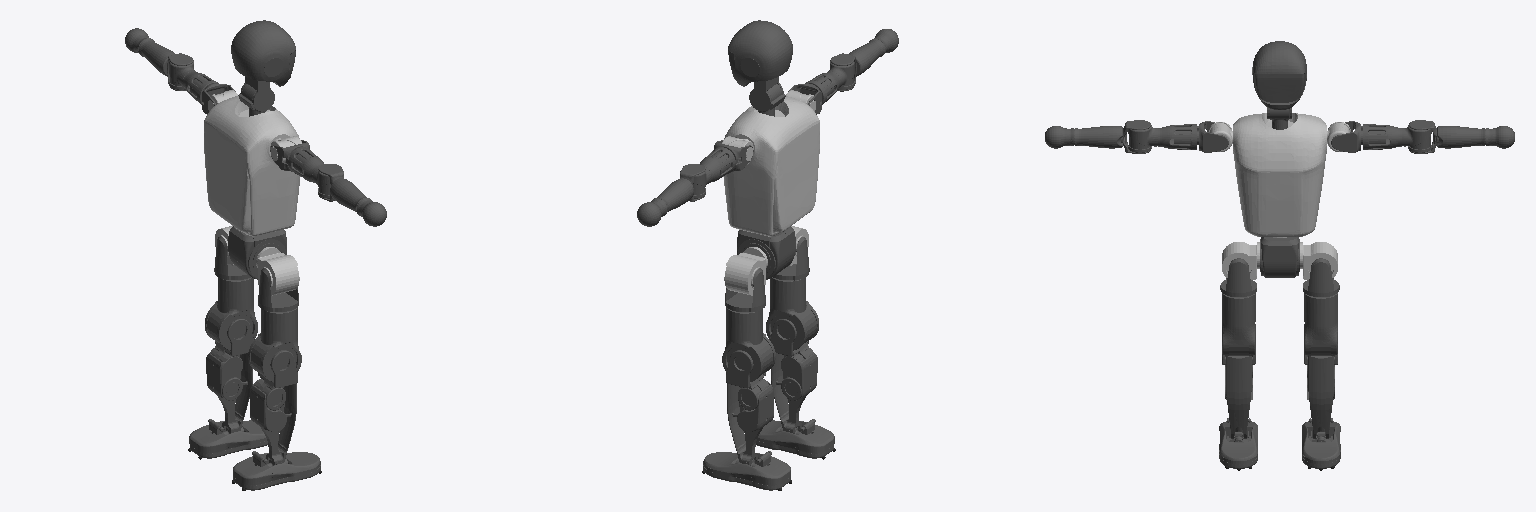
--- What the picture shows (computed from the rendered views, not written in the file) ---
The picture shows the robot from 3 angles, left to right: view 1: azimuth 30°, elevation 25°; view 2: azimuth 150°, elevation 25°; view 3: azimuth 270°, elevation 25°; orthographic projection.
Model t1_23dof with 36 links and 35 joints (23 revolute, 12 fixed), rooted at Trunk, posed every joint at zero.
Visible links, largest first — view 1: Trunk, H2, Shank_Right, Shank_Left, Hip_Yaw_Left, Hip_Yaw_Right, right_foot_link, left_foot_link, right_hand_link, Waist, Hip_Pitch_Right, left_hand_link (+4 smaller); view 2: Trunk, H2, Shank_Left, Shank_Right, Hip_Yaw_Right, Hip_Yaw_Left, left_foot_link, right_foot_link, left_hand_link, Waist, Hip_Pitch_Left, right_hand_link (+4 smaller); view 3: Trunk, H2, Shank_Left, Shank_Right, Hip_Yaw_Left, Hip_Yaw_Right, left_hand_link, right_hand_link, AR3, AL3, Waist, left_foot_link (+7 smaller).
Link boxes in pixels (x1,y1,x2,y2): Trunk: (204,96,300,236); H2: (231,20,295,111); Shank_Right: (250,350,297,465); Shank_Left: (206,319,253,433); Hip_Yaw_Left: (205,277,257,350); Hip_Yaw_Right: (248,307,301,381); right_foot_link: (233,451,320,490); left_foot_link: (189,419,267,458); right_hand_link: (319,164,386,226); Waist: (228,226,286,279); Hip_Pitch_Right: (256,247,299,295); left_hand_link: (125,28,193,90); Trunk: (723,96,819,236); H2: (728,20,792,111); Shank_Left: (726,350,773,465); Shank_Right: (770,319,817,433); Hip_Yaw_Right: (766,277,818,350); Hip_Yaw_Left: (722,307,775,381); left_foot_link: (703,451,790,490); right_foot_link: (756,419,834,458); left_hand_link: (637,164,705,226); Waist: (737,226,795,279); Hip_Pitch_Left: (724,247,767,295); right_hand_link: (830,29,898,91); Trunk: (1233,113,1326,237); H2: (1252,41,1306,118); Shank_Left: (1304,324,1337,438); Shank_Right: (1222,324,1255,438); Hip_Yaw_Left: (1304,293,1337,356); Hip_Yaw_Right: (1222,293,1255,356); left_hand_link: (1409,120,1514,153); right_hand_link: (1045,120,1150,153); AR3: (1128,124,1198,152); AL3: (1361,124,1431,152); Waist: (1260,237,1299,277); left_foot_link: (1302,418,1340,468).
Bounding box of the posed robot: 0.23 × 1.21 × 1.17 m (x, y, z).
24 mesh visuals loaded from 24 distinct referenced files (24 OBJ).

The robot description file, URDF, robot "t1_23dof":
<?xml version="1.0" encoding="utf-8"?>
<!-- This URDF was automatically created by SolidWorks to URDF Exporter! Originally created by Stephen Brawner ([email redacted])
     Commit Version: 1.6.0-4-g7f85cfe  Build Version: 1.6.7995.38578
     For more information, please see http://wiki.ros.org/sw_urdf_exporter -->
<robot
  name="t1_23dof">
  <link
    name="Trunk">
    <inertial>
      <origin
        xyz="0.0551365401093076 -1.42058017623659E-06 0.105062332707657"
        rpy="0 0 0" />
      <mass
        value="11.7" />
      <inertia
        ixx="0.0915287235057927"
        ixy="-4.25369739206781E-07"
        ixz="0.000646360369011163"
        iyy="0.076778716903413"
        iyz="5.82340020271393E-07"
        izz="0.0556171053368987" />
    </inertial>
    <visual>
      <origin
        xyz="0 0 0"
        rpy="0 0 0" />
      <geometry>
        <mesh
          filename="meshes/Trunk_from_STL.obj" />
      </geometry>
      <material
        name="">
        <color
          rgba="0.76 0.76 0.76 1.0" />
      </material>
    </visual>
    <collision name="Trunk">
      <origin
        xyz="0 0 0"
        rpy="0 0 0" />
      <geometry>
        <mesh filename="meshes/Trunk_from_STL.obj"/>
      </geometry>
    </collision>
  </link>
  <link
    name="H1">
    <inertial>
      <origin
        xyz="-0.000508 -0.001403 0.057432"
        rpy="0 0 0" />
      <mass
        value="0.443910" />
      <inertia
        ixx="0.000224"
        ixy="0.000003"
        ixz="0.000001"
        iyy="0.000241"
        iyz="-0.000002"
        izz="0.000150" />
    </inertial>
    <visual>
      <origin
        xyz="0 0 0"
        rpy="0 0 0" />
      <geometry>
        <mesh
          filename="meshes/H1_from_STL.obj" />
      </geometry>
      <material
        name="">
        <color
          rgba="0.4 0.4 0.4 1.0" />
      </material>
    </visual>
    <collision name="H1">
      <origin
        xyz="0 0 0"
        rpy="0 0 0" />
      <geometry>
        <mesh filename="meshes/H1_from_STL.obj" />
      </geometry>
    </collision>
  </link>
  <joint
    name="AAHead_yaw"
    type="revolute">
    <origin
      xyz="0.0625 0 0.243"
      rpy="0 0 0" />
    <parent
      link="Trunk" />
    <child
      link="H1" />
    <axis
      xyz="0 0 1" />
    <limit
      lower="-1.57"
      upper="1.57"
      effort="7"
      velocity="12.56" />
  </joint>
  <link
    name="H2">
    <inertial>
      <origin
        xyz="0.007802 0.001262 0.098631"
        rpy="0 0 0" />
      <mass
        value="0.631019" />
      <inertia
        ixx="0.002025"
        ixy="-0.000025"
        ixz="0.000046"
        iyy="0.001920"
        iyz="0.000036"
        izz="0.001739" />
    </inertial>
    <visual>
      <origin
        xyz="0 0 0"
        rpy="0 0 0" />
      <geometry>
        <mesh
          filename="meshes/H2_from_STL.obj" />
      </geometry>
      <material
        name="">
        <color
          rgba="0.4 0.4 0.4 1.0" />
      </material>
    </visual>
    <collision name="H2">
      <origin
        xyz="0 0 0"
        rpy="0 0 0" />
      <geometry>
        <mesh filename="meshes/H2_from_STL.obj" />
      </geometry>
    </collision>
  </link>
  <joint
    name="Head_pitch"
    type="revolute">
    <origin
      xyz="0 0 0.06185"
      rpy="0 0 0" />
    <parent
      link="H1" />
    <child
      link="H2" />
    <axis
      xyz="0 1 0" />
    <limit
      lower="-0.35"
      upper="1.22"
      effort="7"
      velocity="12.56" />
  </joint>
  <link
    name="AL1">
    <inertial>
      <origin
        xyz="-0.000677 0.044974 0.000000"
        rpy="0 0 0" />
      <mass
        value="0.53" />
      <inertia
        ixx="0.001293"
        ixy="-0.000017"
        ixz="0.000000"
        iyy="0.000293"
        iyz="0.000000"
        izz="0.001367" />
    </inertial>
    <visual>
      <origin
        xyz="0 0 0"
        rpy="0 0 0" />
      <geometry>
        <mesh
          filename="meshes/AL1_from_STL.obj" />
      </geometry>
      <material
        name="">
        <color
          rgba="0.76 0.76 0.76 1.0" />
      </material>
    </visual>
    <collision name="AL1">
      <origin
        xyz="0 0 0"
        rpy="0 0 0" />
      <geometry>
        <mesh filename="meshes/AL1_from_STL.obj" />
      </geometry>
    </collision>
  </link>
  <joint
    name="Left_Shoulder_Pitch"
    type="revolute">
    <origin
      xyz="0.0575 0.1063 0.219"
      rpy="0 0.00088113 0" />
    <parent
      link="Trunk" />
    <child
      link="AL1" />
    <axis
      xyz="0 1 0" />
    <limit
      lower="-3.31"
      upper="1.22"
      effort="18"
      velocity="18.84" />
  </joint>
  <link
    name="AL2">
    <inertial>
      <origin
        xyz="0.003862 0.037976 0.000000"
        rpy="0 0 0" />
      <mass
        value="0.160" />
      <inertia
        ixx="0.000345"
        ixy="0.000008"
        ixz="0.000000"
        iyy="0.000177"
        iyz="0.000000"
        izz="0.000401" />
    </inertial>
    <visual>
      <origin
        xyz="0 0 0"
        rpy="0 0 0" />
      <geometry>
        <mesh
          filename="meshes/AL2_from_STL.obj" />
      </geometry>
      <material
        name="">
        <color
          rgba="0.4 0.4 0.4 1.0" />
      </material>
    </visual>
    <collision name="AL2">
      <origin
        xyz="0 0 0"
        rpy="0 0 0" />
      <geometry>
        <mesh filename="meshes/AL2_from_STL.obj" />
      </geometry>
    </collision>
  </link>
  <joint
    name="Left_Shoulder_Roll"
    type="revolute">
    <origin
      xyz="0 0.047 0"
      rpy="0 0 0" />
    <parent
      link="AL1" />
    <child
      link="AL2" />
    <axis
      xyz="1 0 0" />
    <limit
      lower="-1.74"
      upper="1.57"
      effort="18"
      velocity="18.84" />
  </joint>
  <link
    name="AL3">
    <inertial>
      <origin
        xyz="0.000000 0.085353 -0.000099"
        rpy="0 0 0" />
      <mass
        value="1.02" />
      <inertia
        ixx="0.012869"
        ixy="0.000000"
        ixz="0.000000"
        iyy="0.000621"
        iyz="-0.000024"
        izz="0.012798" />
    </inertial>
    <visual>
      <origin
        xyz="0 0 0"
        rpy="0 0 0" />
      <geometry>
        <mesh
          filename="meshes/AL3_from_STL.obj" />
      </geometry>
      <material
        name="">
        <color
          rgba="0.4 0.4 0.4 1.0" />
      </material>
    </visual>
    <collision name="AL3">
      <origin
        xyz="0 0 0"
        rpy="0 0 0" />
      <geometry>
        <mesh filename="meshes/AL3_from_STL.obj" />
      </geometry>
    </collision>
  </link>
  <joint
    name="Left_Elbow_Pitch"
    type="revolute">
    <origin
      xyz="0.00025 0.0605 0"
      rpy="0 0 0" />
    <parent
      link="AL2" />
    <child
      link="AL3" />
    <axis
      xyz="0 1 0" />
    <limit
      lower="-2.27"
      upper="2.27"
      effort="18"
      velocity="18.84" />
  </joint>
  <link
    name="left_hand_link">
    <inertial>
      <origin
        xyz="-0.000108 0.109573 0.000591"
        rpy="0 0 0" />
      <mass
        value="0.327214390850251" />
      <inertia
        ixx="0.008159"
        ixy="-0.000003"
        ixz="0.000000"
        iyy="0.000215"
        iyz="0.000017"
        izz="0.008131" />
    </inertial>
    <visual>
      <origin
        xyz="0 0 0"
        rpy="0 0 0" />
      <geometry>
        <mesh
          filename="meshes/left_hand_link_from_STL.obj" />
      </geometry>
      <material
        name="">
        <color
          rgba="0.4 0.4 0.4 1.0" />
      </material>
    </visual>
    <collision name="left_hand_link">
      <origin
        xyz="0 0 0"
        rpy="0 0 0" />
      <geometry>
        <mesh filename="meshes/left_hand_link_from_STL.obj" />
      </geometry>
    </collision>
  </link>
  <link name="left_hand_sphere_link">
    <inertial>
      <origin xyz="0 0 0" rpy="0 0 0"/>
      <mass value="0.001"/>
      <inertia ixx="1e-7" ixy="0" ixz="0" iyy="1e-7" iyz="0" izz="1e-7"/>
    </inertial>
    <visual>
      <origin xyz="0 0 0" rpy="0 0 0"/>
      <geometry>
        <sphere radius="0.005"/>
      </geometry>
      <material name="dark">
        <color rgba="0.2 0.2 0.2 1"/>
      </material>
    </visual>
    <collision name="left_hand_sphere_link">
      <origin xyz="0.0 0.0 0.0" rpy="0 0 0"/>
      <geometry>
        <sphere radius="0.005"/>
      </geometry>
    </collision>
  </link>
  <joint name="left_hand_sphere_joint" type="fixed">
    <origin xyz="0.0 0.2 0.0" rpy="0 0 0"/>
    <parent link="left_hand_link"/>
    <child link="left_hand_sphere_link"/>
  </joint>
  <joint
    name="Left_Elbow_Yaw"
    type="revolute">
    <origin
      xyz="0 0.1471 0"
      rpy="0 0 0" />
    <parent
      link="AL3" />
    <child
      link="left_hand_link" />
    <axis
      xyz="0 0 1" />
    <limit
      lower="-2.44"
      upper="0"
      effort="18"
      velocity="18.84" />
  </joint>
  <link
    name="AR1">
    <inertial>
      <origin
        xyz="-0.000677 -0.044974 0.000000"
        rpy="0 0 0" />
      <mass
        value="0.53" />
      <inertia
        ixx="0.001293"
        ixy="-0.000017"
        ixz="0.000000"
        iyy="0.000293"
        iyz="0.000000"
        izz="0.001367" />
    </inertial>
    <visual>
      <origin
        xyz="0 0 0"
        rpy="0 0 0" />
      <geometry>
        <mesh
          filename="meshes/AR1_from_STL.obj" />
      </geometry>
      <material
        name="">
        <color
          rgba="0.76 0.76 0.76 1.0" />
      </material>
    </visual>
    <collision name="AR1">
      <origin
        xyz="0 0 0"
        rpy="0 0 0" />
      <geometry>
        <mesh filename="meshes/AR1_from_STL.obj" />
      </geometry>
    </collision>
  </link>
  <joint
    name="Right_Shoulder_Pitch"
    type="revolute">
    <origin
      xyz="0.0575 -0.1063 0.219"
      rpy="0 0.00088113 0" />
    <parent
      link="Trunk" />
    <child
      link="AR1" />
    <axis
      xyz="0 1 0" />
    <limit
      lower="-3.31"
      upper="1.22"
      effort="18"
      velocity="18.84" />
  </joint>
  <link
    name="AR2">
    <inertial>
      <origin
        xyz="0.003862 -0.037976 0.000000"
        rpy="0 0 0" />
      <mass
        value="0.160" />
      <inertia
        ixx="0.000345"
        ixy="-0.000008"
        ixz="0.000000"
        iyy="0.000177"
        iyz="0.000000"
        izz="0.000401" />
    </inertial>
    <visual>
      <origin
        xyz="0 0 0"
        rpy="0 0 0" />
      <geometry>
        <mesh
          filename="meshes/AR2_from_STL.obj" />
      </geometry>
      <material
        name="">
        <color
          rgba="0.4 0.4 0.4 1.0" />
      </material>
    </visual>
    <collision name="AR2">
      <origin
        xyz="0 0 0"
        rpy="0 0 0" />
      <geometry>
        <mesh filename="meshes/AR2_from_STL.obj" />
      </geometry>
    </collision>
  </link>
  <joint
    name="Right_Shoulder_Roll"
    type="revolute">
    <origin
      xyz="0 -0.047 0"
      rpy="0 0 0" />
    <parent
      link="AR1" />
    <child
      link="AR2" />
    <axis
      xyz="1 0 0" />
    <limit
      lower="-1.57"
      upper="1.74"
      effort="18"
      velocity="18.84" />
  </joint>
  <link
    name="AR3">
    <inertial>
      <origin
        xyz="0.000000 -0.085353 -0.000099"
        rpy="0 0 0" />
      <mass
        value="1.02" />
      <inertia
        ixx="0.012869"
        ixy="0.000000"
        ixz="0.000000"
        iyy="0.000621"
        iyz="0.000024"
        izz="0.012798" />
    </inertial>
    <visual>
      <origin
        xyz="0 0 0"
        rpy="0 0 0" />
      <geometry>
        <mesh
          filename="meshes/AR3_from_STL.obj" />
      </geometry>
      <material
        name="">
        <color
          rgba="0.4 0.4 0.4 1.0" />
      </material>
    </visual>
    <collision name="AR3">
      <origin
        xyz="0 0 0"
        rpy="0 0 0" />
      <geometry>
        <mesh filename="meshes/AR3_from_STL.obj" />
      </geometry>
    </collision>
  </link>
  <joint
    name="Right_Elbow_Pitch"
    type="revolute">
    <origin
      xyz="0.00025 -0.0605 0"
      rpy="0 0 0" />
    <parent
      link="AR2" />
    <child
      link="AR3" />
    <axis
      xyz="0 1 0" />
    <limit
      lower="-2.27"
      upper="2.27"
      effort="18"
      velocity="18.84" />
  </joint>
  <link
    name="right_hand_link">
    <inertial>
      <origin
xyz="-0.000108 -0.109573 0.000591"
        rpy="0 0 0" />
      <mass
        value="0.327214390850251" />
      <inertia
        ixx="0.008159"
        ixy="0.000003"
        ixz="0.000000"
        iyy="0.000215"
        iyz="-0.000017"
        izz="0.008131" />
    </inertial>
    <visual>
      <origin
        xyz="0 0 0"
        rpy="0 0 0" />
      <geometry>
        <mesh
          filename="meshes/right_hand_link_from_STL.obj" />
      </geometry>
      <material
        name="">
        <color
          rgba="0.4 0.4 0.4 1.0" />
      </material>
    </visual>
    <collision name="right_hand_link">
      <origin
        xyz="0 0 0"
        rpy="0 0 0" />
      <geometry>
        <mesh filename="meshes/right_hand_link_from_STL.obj" />
      </geometry>
    </collision>
  </link>
  <link name="right_hand_sphere_link">
    <inertial>
      <origin xyz="0 0 0" rpy="0 0 0"/>
      <mass value="0.001"/>
      <inertia ixx="1e-7" ixy="0" ixz="0" iyy="1e-7" iyz="0" izz="1e-7"/>
    </inertial>
    <visual>
      <origin xyz="0 0 0" rpy="0 0 0"/>
      <geometry>
        <sphere radius="0.005"/>
      </geometry>
      <material name="dark">
        <color rgba="0.2 0.2 0.2 1"/>
      </material>
    </visual>
    <collision name="right_hand_sphere_link">
      <origin xyz="0.0 0.0 0.0" rpy="0 0 0"/>
      <geometry>
        <sphere radius="0.005"/>
      </geometry>
    </collision>
  </link>
  <joint name="right_hand_sphere_joint" type="fixed">
    <origin xyz="0.0 -0.2 0.0" rpy="0 0 0"/>
    <parent link="right_hand_link"/>
    <child link="right_hand_sphere_link"/>
  </joint>
  <joint
    name="Right_Elbow_Yaw"
    type="revolute">
    <origin
      xyz="0 -0.1471 0"
      rpy="0 0 0" />
    <parent
      link="AR3" />
    <child
      link="right_hand_link" />
    <axis
      xyz="0 0 1" />
    <limit
      lower="0"
      upper="2.44"
      effort="18"
      velocity="18.84" />
  </joint>
  <link
    name="Waist">
    <inertial>
      <origin
        xyz="0.002284 0.000003 0.007301"
        rpy="0 0 0" />
      <mass
        value="2.581" />
      <inertia
        ixx="0.005289"
        ixy="0.000000"
        ixz="0.000207"
        iyy="0.005299"
        iyz="0.000001"
        izz="0.004821" />
    </inertial>
    <visual>
      <origin
        xyz="0 0 0"
        rpy="0 0 0" />
      <geometry>
        <mesh
          filename="meshes/Waist_from_STL.obj" />
      </geometry>
      <material
        name="">
        <color
          rgba="0.4 0.4 0.4 1.0" />
      </material>
    </visual>
    <collision name="Waist">
      <origin
        xyz="0 0 0"
        rpy="0 0 0" />
      <geometry>
        <mesh filename="meshes/Waist_from_STL.obj" />
      </geometry>
    </collision>
  </link>
  <joint
    name="Waist"
    type="revolute">
    <origin
      xyz="0.0625 0 -0.1155"
      rpy="0 0 0" />
    <parent
      link="Trunk" />
    <child
      link="Waist" />
    <axis
      xyz="0 0 1" />
    <limit
      lower="-1.57"
      upper="1.57"
      effort="30"
      velocity="10.88" />
  </joint>
  <link
    name="Hip_Pitch_Left">
    <inertial>
      <origin
        xyz="0.000534 -0.007296 -0.018083"
        rpy="0 0 0" />
      <mass
        value="1.021" />
      <inertia
        ixx="0.001805"
        ixy="0.000006"
        ixz="-0.000015"
        iyy="0.001421"
        iyz="0.000080"
        izz="0.001292" />
    </inertial>
    <visual>
      <origin
        xyz="0 0 0"
        rpy="0 0 0" />
      <geometry>
        <mesh
          filename="meshes/Hip_Pitch_Left_from_STL.obj" />
      </geometry>
      <material
        name="">
        <color
          rgba="0.76 0.76 0.76 1.0" />
      </material>
    </visual>
    <collision name="Hip_Pitch_Left">
      <origin
        xyz="0 0 0"
        rpy="0 0 0" />
      <geometry>
        <mesh filename="meshes/Hip_Pitch_Left_from_STL.obj" />
      </geometry>
    </collision>
  </link>
  <joint
    name="Left_Hip_Pitch"
    type="revolute">
    <origin
      xyz="0 0.106 0"
      rpy="0 0 0" />
    <parent
      link="Waist" />
    <child
      link="Hip_Pitch_Left" />
    <axis
      xyz="0 1 0" />
    <limit
      lower="-1.8"
      upper="1.57"
      effort="45"
      velocity="12.5" />
  </joint>
  <link
    name="Hip_Roll_Left">
    <inertial>
      <origin
        xyz="0.001101 0.000024 -0.053750"
        rpy="0 0 0" />
      <mass
        value="0.385" />
      <inertia
        ixx="0.001517"
        ixy="0.000000"
        ixz="0.000017"
        iyy="0.001743"
        iyz="0.000000"
        izz="0.000515" />
    </inertial>
    <visual>
      <origin
        xyz="0 0 0"
        rpy="0 0 0" />
      <geometry>
        <mesh
          filename="meshes/Hip_Roll_Left_from_STL.obj" />
      </geometry>
      <material
        name="">
        <color
          rgba="0.4 0.4 0.4 1.0" />
      </material>
    </visual>
    <collision name="Hip_Roll_Left">
      <origin
        xyz="0 0 0"
        rpy="0 0 0" />
      <geometry>
        <mesh filename="meshes/Hip_Roll_Left_from_STL.obj" />
      </geometry>
    </collision>
  </link>
  <joint
    name="Left_Hip_Roll"
    type="revolute">
    <origin
      xyz="0 0 -0.02"
      rpy="0 0 0" />
    <parent
      link="Hip_Pitch_Left" />
    <child
      link="Hip_Roll_Left" />
    <axis
      xyz="1 0 0" />
    <limit
      lower="-0.2"
      upper="1.57"
      effort="30"
      velocity="10.9" />
  </joint>
  <link
    name="Hip_Yaw_Left">
    <inertial>
      <origin
        xyz="-0.007233 0.000206 -0.089184"
        rpy="0 0 0" />
      <mass
        value="2.166" />
      <inertia
        ixx="0.025108"
        ixy="-0.000007"
        ixz="0.002094"
        iyy="0.025733"
        iyz="-0.000050"
        izz="0.002787" />
    </inertial>
    <visual>
      <origin
        xyz="0 0 0"
        rpy="0 0 0" />
      <geometry>
        <mesh
          filename="meshes/Hip_Yaw_Left_from_STL.obj" />
      </geometry>
      <material
        name="">
        <color
          rgba="0.4 0.4 0.4 1.0" />
      </material>
    </visual>
    <collision name="Hip_Yaw_Left">
      <origin
        xyz="0 0 0"
        rpy="0 0 0" />
      <geometry>
        <mesh filename="meshes/Hip_Yaw_Left_from_STL.obj" />
      </geometry>
    </collision>
  </link>
  <joint
    name="Left_Hip_Yaw"
    type="revolute">
    <origin
      xyz="0 0 -0.081854"
      rpy="0 0 0" />
    <parent
      link="Hip_Roll_Left" />
    <child
      link="Hip_Yaw_Left" />
    <axis
      xyz="0 0 1" />
    <limit
      lower="-1"
      upper="1"
      effort="30"
      velocity="10.9" />
  </joint>
  <link
    name="Shank_Left">
    <inertial>
      <origin
        xyz="-0.006012 0.000259 -0.124318"
        rpy="0 0 0" />
      <mass
        value="1.73" />
      <inertia
        ixx="0.034618"
        ixy="0.000011"
        ixz="0.001561"
        iyy="0.034539"
        iyz="0.000197"
        izz="0.001934" />
    </inertial>
    <visual>
      <origin
        xyz="0 0 0"
        rpy="0 0 0" />
      <geometry>
        <mesh
          filename="meshes/Shank_Left_from_STL.obj" />
      </geometry>
      <material
        name="">
        <color
          rgba="0.4 0.4 0.4 1.0" />
      </material>
    </visual>
    <collision name="Shank_Left">
      <origin
        xyz="0 0 0"
        rpy="0 0 0" />
      <geometry>
        <mesh filename="meshes/Shank_Left_from_STL.obj" />
      </geometry>
    </collision>
  </link>
  <joint
    name="Left_Knee_Pitch"
    type="revolute">
    <origin
      xyz="-0.014 0 -0.134"
      rpy="0 0 0" />
    <parent
      link="Hip_Yaw_Left" />
    <child
      link="Shank_Left" />
    <axis
      xyz="0 1 0" />
    <limit
      lower="0"
      upper="2.34"
      effort="60"
      velocity="11.7" />
  </joint>
  <link
    name="Ankle_Cross_Left">
    <inertial>
      <origin
        xyz="-0.003722 0.000000 -0.007981"
        rpy="0 0 0" />
      <mass
        value="0.073" />
      <inertia
        ixx="0.000012"
        ixy="0.000000"
        ixz="0.000003"
        iyy="0.000029"
        iyz="0.000000"
        izz="0.000025" />
    </inertial>
    <visual>
      <origin
        xyz="0 0 0"
        rpy="0 0 0" />
      <geometry>
        <mesh
          filename="meshes/Ankle_Cross_Left_from_STL.obj" />
      </geometry>
      <material
        name="">
        <color
          rgba="0.4 0.4 0.4 1.0" />
      </material>
    </visual>
    <collision name="Ankle_Cross_Left">
      <origin
        xyz="0 0 0"
        rpy="0 0 0" />
      <geometry>
        <mesh filename="meshes/Ankle_Cross_Left_from_STL.obj" />
      </geometry>
    </collision>
  </link>
  <joint
    name="Left_Ankle_Pitch"
    type="revolute">
    <origin
      xyz="0 0 -0.28"
      rpy="0 0 0" />
    <parent
      link="Shank_Left" />
    <child
      link="Ankle_Cross_Left" />
    <axis
      xyz="0 1 0" />
    <limit
      lower="-0.87"
      upper="0.35"
      effort="20"
      velocity="18.8" />
  </joint>
  <link
    name="left_foot_link">
    <inertial>
      <origin
        xyz="-0.000249 0.000000 -0.009140"
        rpy="0 0 0" />
      <mass
        value="0.685" />
      <inertia
        ixx="0.002214"
        ixy="0"
        ixz="-0.000114"
        iyy="0.002385"
        iyz="0"
        izz="0.002671" />
    </inertial>
    <visual>
      <origin
        xyz="0 0 0"
        rpy="0 0 0" />
      <geometry>
        <mesh
          filename="meshes/left_foot_link_from_STL.obj" />
      </geometry>
      <material
        name="">
        <color
          rgba="0.4 0.4 0.4 1.0" />
      </material>
    </visual>
    <collision name="left_foot_link">
      <origin
        xyz="0 0 0"
        rpy="0 0 0" />
      <geometry>
        <mesh filename="meshes/left_foot_link_from_STL.obj" />
      </geometry>
    </collision>
  </link>
  <link name="left_foot_sphere_3_link">
    <inertial>
      <origin xyz="0 0 0" rpy="0 0 0"/>
      <mass value="0.001"/>
      <inertia ixx="1e-7" ixy="0" ixz="0" iyy="1e-7" iyz="0" izz="1e-7"/>
    </inertial>
    <visual>
      <origin xyz="0 0 0" rpy="0 0 0"/>
      <geometry>
        <sphere radius="0.005"/>
      </geometry>
      <material name="dark">
        <color rgba="0.2 0.2 0.2 1"/>
      </material>
    </visual>
    <collision name="left_foot_sphere_3_link">
      <origin xyz="0.0 0.0 0.0" rpy="0 0 0"/>
      <geometry>
        <sphere radius="0.005"/>
      </geometry>
    </collision>
  </link>
  <joint name="left_foot_sphere_3_joint" type="fixed">
    <origin xyz="0.11 0.03 -0.03" rpy="0 0 0"/>
    <parent link="left_foot_link"/>
    <child link="left_foot_sphere_3_link"/>
  </joint>
  <link name="left_foot_sphere_4_link">
    <inertial>
      <origin xyz="0 0 0" rpy="0 0 0"/>
      <mass value="0.001"/>
      <inertia ixx="1e-7" ixy="0" ixz="0" iyy="1e-7" iyz="0" izz="1e-7"/>
    </inertial>
    <visual>
      <origin xyz="0 0 0" rpy="0 0 0"/>
      <geometry>
        <sphere radius="0.005"/>
      </geometry>
      <material name="dark">
        <color rgba="0.2 0.2 0.2 1"/>
      </material>
    </visual>
    <collision name="left_foot_sphere_4_link">
      <origin xyz="0.0 0.0 0.0" rpy="0 0 0"/>
      <geometry>
        <sphere radius="0.005"/>
      </geometry>
    </collision>
  </link>
  <joint name="left_foot_sphere_4_joint" type="fixed">
    <origin xyz="0.11 -0.03 -0.03" rpy="0 0 0"/>
    <parent link="left_foot_link"/>
    <child link="left_foot_sphere_4_link"/>
  </joint>
  <link name="left_foot_sphere_5_link">
    <inertial>
      <origin xyz="0 0 0" rpy="0 0 0"/>
      <mass value="0.001"/>
      <inertia ixx="1e-7" ixy="0" ixz="0" iyy="1e-7" iyz="0" izz="1e-7"/>
    </inertial>
    <visual>
      <origin xyz="0 0 0" rpy="0 0 0"/>
      <geometry>
        <sphere radius="0.005"/>
      </geometry>
      <material name="dark">
        <color rgba="0.2 0.2 0.2 1"/>
      </material>
    </visual>
    <collision name="left_foot_sphere_5_link">
      <origin xyz="0.0 0.0 0.0" rpy="0 0 0"/>
      <geometry>
        <sphere radius="0.005"/>
      </geometry>
    </collision>
  </link>
  <joint name="left_foot_sphere_5_joint" type="fixed">
    <origin xyz="0.12 0 -0.03" rpy="0 0 0"/>
    <parent link="left_foot_link"/>
    <child link="left_foot_sphere_5_link"/>
  </joint>
  <link name="left_foot_sphere_1_link">
    <inertial>
      <origin xyz="0 0 0" rpy="0 0 0"/>
      <mass value="0.001"/>
      <inertia ixx="1e-7" ixy="0" ixz="0" iyy="1e-7" iyz="0" izz="1e-7"/>
    </inertial>
    <visual>
      <origin xyz="0 0 0" rpy="0 0 0"/>
      <geometry>
        <sphere radius="0.005"/>
      </geometry>
      <material name="dark">
        <color rgba="0.2 0.2 0.2 1"/>
      </material>
    </visual>
    <collision name="left_foot_sphere_1_link">
      <origin xyz="0.0 0.0 0.0" rpy="0 0 0"/>
      <geometry>
        <sphere radius="0.005"/>
      </geometry>
    </collision>
  </link>
  <joint name="left_foot_sphere_1_joint" type="fixed">
    <origin xyz="-0.1 0.025 -0.03" rpy="0 0 0"/>
    <parent link="left_foot_link"/>
    <child link="left_foot_sphere_1_link"/>
  </joint>
  <link name="left_foot_sphere_2_link">
    <inertial>
      <origin xyz="0 0 0" rpy="0 0 0"/>
      <mass value="0.001"/>
      <inertia ixx="1e-7" ixy="0" ixz="0" iyy="1e-7" iyz="0" izz="1e-7"/>
    </inertial>
    <visual>
      <origin xyz="0 0 0" rpy="0 0 0"/>
      <geometry>
        <sphere radius="0.005"/>
      </geometry>
      <material name="dark">
        <color rgba="0.2 0.2 0.2 1"/>
      </material>
    </visual>
    <collision name="left_foot_sphere_2_link">
      <origin xyz="0.0 0.0 0.0" rpy="0 0 0"/>
      <geometry>
        <sphere radius="0.005"/>
      </geometry>
    </collision>
  </link>
  <joint name="left_foot_sphere_2_joint" type="fixed">
    <origin xyz="-0.1 -0.025 -0.03" rpy="0 0 0"/>
    <parent link="left_foot_link"/>
    <child link="left_foot_sphere_2_link"/>
  </joint>
  <joint
    name="Left_Ankle_Roll"
    type="revolute">
    <origin
      xyz="0 0.00025 -0.012"
      rpy="0 0 0" />
    <parent
      link="Ankle_Cross_Left" />
    <child
      link="left_foot_link" />
    <axis
      xyz="1 0 0" />
    <limit
      lower="-0.44"
      upper="0.44"
      effort="15"
      velocity="12.4" />
  </joint>
  <link
    name="Hip_Pitch_Right">
    <inertial>
      <origin
        xyz="0.000534 0.007514 -0.018082"
        rpy="0 0 0" />
      <mass
        value="1.021" />
      <inertia
        ixx="0.001805"
        ixy="-0.000008"
        ixz="-0.000015"
        iyy="0.001421"
        iyz="-0.000085"
        izz="0.001292" />
    </inertial>
    <visual>
      <origin
        xyz="0 0 0"
        rpy="0 0 0" />
      <geometry>
        <mesh
          filename="meshes/Hip_Pitch_Right_from_STL.obj" />
      </geometry>
      <material
        name="">
        <color
          rgba="0.76 0.76 0.76 1.0" />
      </material>
    </visual>
    <collision name="Hip_Pitch_Right">
      <origin
        xyz="0 0 0"
        rpy="0 0 0" />
      <geometry>
        <mesh filename="meshes/Hip_Pitch_Right_from_STL.obj" />
      </geometry>
    </collision>
  </link>
  <joint
    name="Right_Hip_Pitch"
    type="revolute">
    <origin
      xyz="0 -0.106 0"
      rpy="0 0 0" />
    <parent
      link="Waist" />
    <child
      link="Hip_Pitch_Right" />
    <axis
      xyz="0 1 0" />
    <limit
      lower="-1.8"
      upper="1.57"
      effort="45"
      velocity="12.5" />
  </joint>
  <link
    name="Hip_Roll_Right">
    <inertial>
      <origin
        xyz="0.001099 0.000024 -0.053748"
        rpy="0 0 0" />
      <mass
        value="0.385" />
      <inertia
        ixx="0.001517"
        ixy="0.000000"
        ixz="0.000017"
        iyy="0.001743"
        iyz="0.000000"
        izz="0.000515" />
    </inertial>
    <visual>
      <origin
        xyz="0 0 0"
        rpy="0 0 0" />
      <geometry>
        <mesh
          filename="meshes/Hip_Roll_Right_from_STL.obj" />
      </geometry>
      <material
        name="">
        <color
          rgba="0.4 0.4 0.4 1.0" />
      </material>
    </visual>
    <collision name="Hip_Roll_Right">
      <origin
        xyz="0 0 0"
        rpy="0 0 0" />
      <geometry>
        <mesh filename="meshes/Hip_Roll_Right_from_STL.obj" />
      </geometry>
    </collision>
  </link>
  <joint
    name="Right_Hip_Roll"
    type="revolute">
    <origin
      xyz="0 0 -0.02"
      rpy="0 0 0" />
    <parent
      link="Hip_Pitch_Right" />
    <child
      link="Hip_Roll_Right" />
    <axis
      xyz="1 0 0" />
    <limit
      lower="-1.57"
      upper="0.2"
      effort="30"
      velocity="10.9" />
  </joint>
  <link
    name="Hip_Yaw_Right">
    <inertial>
      <origin
        xyz="-0.007191 -0.000149 -0.089220"
        rpy="0 0 0" />
      <mass
        value="2.17" />
      <inertia
        ixx="0.025137"
        ixy="0.000006"
        ixz="0.002086"
        iyy="0.025762"
        iyz="0.000044"
        izz="0.002787" />
    </inertial>
    <visual>
      <origin
        xyz="0 0 0"
        rpy="0 0 0" />
      <geometry>
        <mesh
          filename="meshes/Hip_Yaw_Right_from_STL.obj" />
      </geometry>
      <material
        name="">
        <color
          rgba="0.4 0.4 0.4 1.0" />
      </material>
    </visual>
    <collision name="Hip_Yaw_Right">
      <origin
        xyz="0 0 0"
        rpy="0 0 0" />
      <geometry>
        <mesh filename="meshes/Hip_Yaw_Right_from_STL.obj" />
      </geometry>
    </collision>
  </link>
  <joint
    name="Right_Hip_Yaw"
    type="revolute">
    <origin
      xyz="0 0 -0.081854"
      rpy="0 0 0" />
    <parent
      link="Hip_Roll_Right" />
    <child
      link="Hip_Yaw_Right" />
    <axis
      xyz="0 0 1" />
    <limit
      lower="-1"
      upper="1"
      effort="30"
      velocity="10.9" />
  </joint>
  <link
    name="Shank_Right">
    <inertial>
      <origin
        xyz="-0.005741 -0.000541 -0.122602"
        rpy="0 0 0" />
      <mass
        value="1.79" />
      <inertia
        ixx="0.035098"
        ixy="-0.000009"
        ixz="0.001554"
        iyy="0.034958"
        iyz="-0.000086"
        izz="0.002039" />
    </inertial>
    <visual>
      <origin
        xyz="0 0 0"
        rpy="0 0 0" />
      <geometry>
        <mesh
          filename="meshes/Shank_Right_from_STL.obj" />
      </geometry>
      <material
        name="">
        <color
          rgba="0.4 0.4 0.4 1.0" />
      </material>
    </visual>
    <collision name="Shank_Right">
      <origin
        xyz="0 0 0"
        rpy="0 0 0" />
      <geometry>
        <mesh filename="meshes/Shank_Right_from_STL.obj" />
      </geometry>
    </collision>
  </link>
  <joint
    name="Right_Knee_Pitch"
    type="revolute">
    <origin
      xyz="-0.014 0 -0.134"
      rpy="0 0 0" />
    <parent
      link="Hip_Yaw_Right" />
    <child
      link="Shank_Right" />
    <axis
      xyz="0 1 0" />
    <limit
      lower="0"
      upper="2.34"
      effort="60"
      velocity="11.7" />
  </joint>
  <link
    name="Ankle_Cross_Right">
    <inertial>
      <origin
        xyz="-0.003722 0.000000 -0.007981"
        rpy="0 0 0" />
      <mass
        value="0.073" />
      <inertia
        ixx="0.000012"
        ixy="0.000000"
        ixz="0.000003"
        iyy="0.000029"
        iyz="0.000000"
        izz="0.000025" />
    </inertial>
    <visual>
      <origin
        xyz="0 0 0"
        rpy="0 0 0" />
      <geometry>
        <mesh
          filename="meshes/Ankle_Cross_Right_from_STL.obj" />
      </geometry>
      <material
        name="">
        <color
          rgba="0.4 0.4 0.4 1.0" />
      </material>
    </visual>
    <collision name="Ankle_Cross_Right">
      <origin
        xyz="0 0 0"
        rpy="0 0 0" />
      <geometry>
        <mesh filename="meshes/Ankle_Cross_Right_from_STL.obj" />
      </geometry>
    </collision>
  </link>
  <joint
    name="Right_Ankle_Pitch"
    type="revolute">
    <origin
      xyz="0 0 -0.28"
      rpy="0 0 0" />
    <parent
      link="Shank_Right" />
    <child
      link="Ankle_Cross_Right" />
    <axis
      xyz="0 1 0" />
    <limit
      lower="-0.87"
      upper="0.35"
      effort="20"
      velocity="18.8" />
  </joint>
  <link
    name="right_foot_link">
    <inertial>
      <origin
        xyz="-0.000248 0.000000 -0.009140"
        rpy="0 0 0" />
      <mass
        value="0.685" />
      <inertia
        ixx="0.002214"
        ixy="0"
        ixz="-0.000114"
        iyy="0.002385"
        iyz="0"
        izz="0.002671" />
    </inertial>
    <visual>
      <origin
        xyz="0 0 0"
        rpy="0 0 0" />
      <geometry>
        <mesh
          filename="meshes/right_foot_link_from_STL.obj" />
      </geometry>
      <material
        name="">
        <color
          rgba="0.4 0.4 0.4 1.0" />
      </material>
    </visual>
    <collision name="right_foot_link">
      <origin
        xyz="0 0 0"
        rpy="0 0 0" />
      <geometry>
        <mesh filename="meshes/right_foot_link_from_STL.obj" />
      </geometry>
    </collision>
  </link>
  <link name="right_foot_sphere_3_link">
    <inertial>
      <origin xyz="0 0 0" rpy="0 0 0"/>
      <mass value="0.001"/>
      <inertia ixx="1e-7" ixy="0" ixz="0" iyy="1e-7" iyz="0" izz="1e-7"/>
    </inertial>
    <visual>
      <origin xyz="0 0 0" rpy="0 0 0"/>
      <geometry>
        <sphere radius="0.005"/>
      </geometry>
      <material name="dark">
        <color rgba="0.2 0.2 0.2 1"/>
      </material>
    </visual>
    <collision name="right_foot_sphere_3_link">
      <origin xyz="0.0 0.0 0.0" rpy="0 0 0"/>
      <geometry>
        <sphere radius="0.005"/>
      </geometry>
    </collision>
  </link>
  <joint name="right_foot_sphere_3_joint" type="fixed">
    <origin xyz="0.11 0.03 -0.03" rpy="0 0 0"/>
    <parent link="right_foot_link"/>
    <child link="right_foot_sphere_3_link"/>
  </joint>
  <link name="right_foot_sphere_4_link">
    <inertial>
      <origin xyz="0 0 0" rpy="0 0 0"/>
      <mass value="0.001"/>
      <inertia ixx="1e-7" ixy="0" ixz="0" iyy="1e-7" iyz="0" izz="1e-7"/>
    </inertial>
    <visual>
      <origin xyz="0 0 0" rpy="0 0 0"/>
      <geometry>
        <sphere radius="0.005"/>
      </geometry>
      <material name="dark">
        <color rgba="0.2 0.2 0.2 1"/>
      </material>
    </visual>
    <collision name="right_foot_sphere_4_link">
      <origin xyz="0.0 0.0 0.0" rpy="0 0 0"/>
      <geometry>
        <sphere radius="0.005"/>
      </geometry>
    </collision>
  </link>
  <joint name="right_foot_sphere_4_joint" type="fixed">
    <origin xyz="0.11 -0.03 -0.03" rpy="0 0 0"/>
    <parent link="right_foot_link"/>
    <child link="right_foot_sphere_4_link"/>
  </joint>
  <link name="right_foot_sphere_5_link">
    <inertial>
      <origin xyz="0 0 0" rpy="0 0 0"/>
      <mass value="0.001"/>
      <inertia ixx="1e-7" ixy="0" ixz="0" iyy="1e-7" iyz="0" izz="1e-7"/>
    </inertial>
    <visual>
      <origin xyz="0 0 0" rpy="0 0 0"/>
      <geometry>
        <sphere radius="0.005"/>
      </geometry>
      <material name="dark">
        <color rgba="0.2 0.2 0.2 1"/>
      </material>
    </visual>
    <collision name="right_foot_sphere_5_link">
      <origin xyz="0.0 0.0 0.0" rpy="0 0 0"/>
      <geometry>
        <sphere radius="0.005"/>
      </geometry>
    </collision>
  </link>
  <joint name="right_foot_sphere_5_joint" type="fixed">
    <origin xyz="0.12 0 -0.03" rpy="0 0 0"/>
    <parent link="right_foot_link"/>
    <child link="right_foot_sphere_5_link"/>
  </joint>
  <link name="right_foot_sphere_1_link">
    <inertial>
      <origin xyz="0 0 0" rpy="0 0 0"/>
      <mass value="0.001"/>
      <inertia ixx="1e-7" ixy="0" ixz="0" iyy="1e-7" iyz="0" izz="1e-7"/>
    </inertial>
    <visual>
      <origin xyz="0 0 0" rpy="0 0 0"/>
      <geometry>
        <sphere radius="0.005"/>
      </geometry>
      <material name="dark">
        <color rgba="0.2 0.2 0.2 1"/>
      </material>
    </visual>
    <collision name="right_foot_sphere_1_link">
      <origin xyz="0.0 0.0 0.0" rpy="0 0 0"/>
      <geometry>
        <sphere radius="0.005"/>
      </geometry>
    </collision>
  </link>
  <joint name="right_foot_sphere_1_joint" type="fixed">
    <origin xyz="-0.1 0.025 -0.03" rpy="0 0 0"/>
    <parent link="right_foot_link"/>
    <child link="right_foot_sphere_1_link"/>
  </joint>
  <link name="right_foot_sphere_2_link">
    <inertial>
      <origin xyz="0 0 0" rpy="0 0 0"/>
      <mass value="0.001"/>
      <inertia ixx="1e-7" ixy="0" ixz="0" iyy="1e-7" iyz="0" izz="1e-7"/>
    </inertial>
    <visual>
      <origin xyz="0 0 0" rpy="0 0 0"/>
      <geometry>
        <sphere radius="0.005"/>
      </geometry>
      <material name="dark">
        <color rgba="0.2 0.2 0.2 1"/>
      </material>
    </visual>
    <collision name="right_foot_sphere_2_link">
      <origin xyz="0.0 0.0 0.0" rpy="0 0 0"/>
      <geometry>
        <sphere radius="0.005"/>
      </geometry>
    </collision>
  </link>
  <joint name="right_foot_sphere_2_joint" type="fixed">
    <origin xyz="-0.1 -0.025 -0.03" rpy="0 0 0"/>
    <parent link="right_foot_link"/>
    <child link="right_foot_sphere_2_link"/>
  </joint>
  <joint
    name="Right_Ankle_Roll"
    type="revolute">
    <origin
      xyz="0 -0.00025 -0.012"
      rpy="0 0 0" />
    <parent
      link="Ankle_Cross_Right" />
    <child
      link="right_foot_link" />
    <axis
      xyz="1 0 0" />
    <limit
      lower="-0.44"
      upper="0.44"
      effort="15"
      velocity="12.4" />
  </joint>
</robot>
